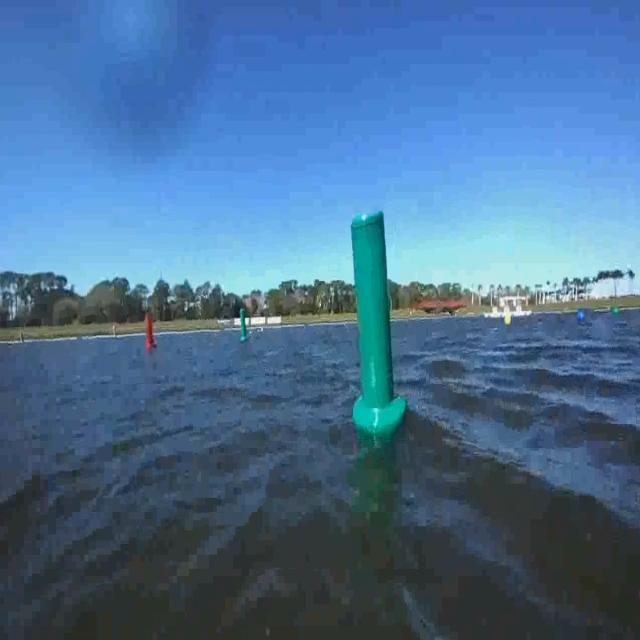blue-buoy: (576, 308, 585, 322)
green-buoy: (615, 306, 621, 314)
green-column-buoy: (347, 212, 404, 436), (237, 311, 248, 345)
red-column-buoy: (144, 316, 156, 352)
yellow-buoy: (504, 314, 511, 327)
